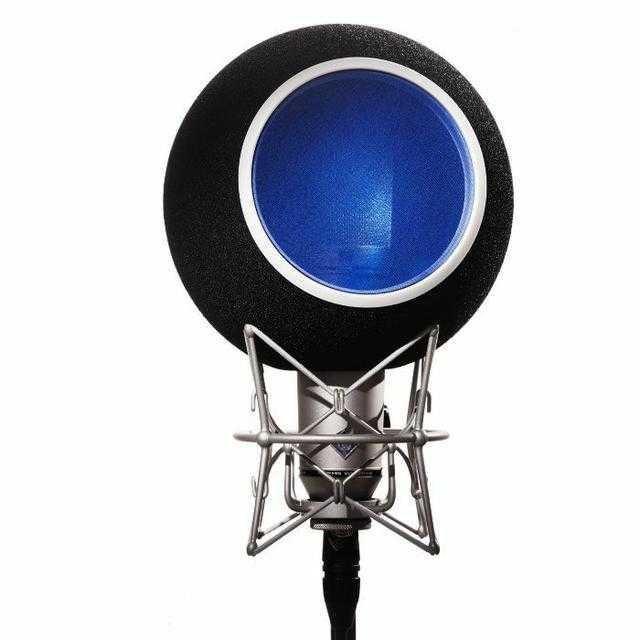microphone: (164, 29, 564, 499)
